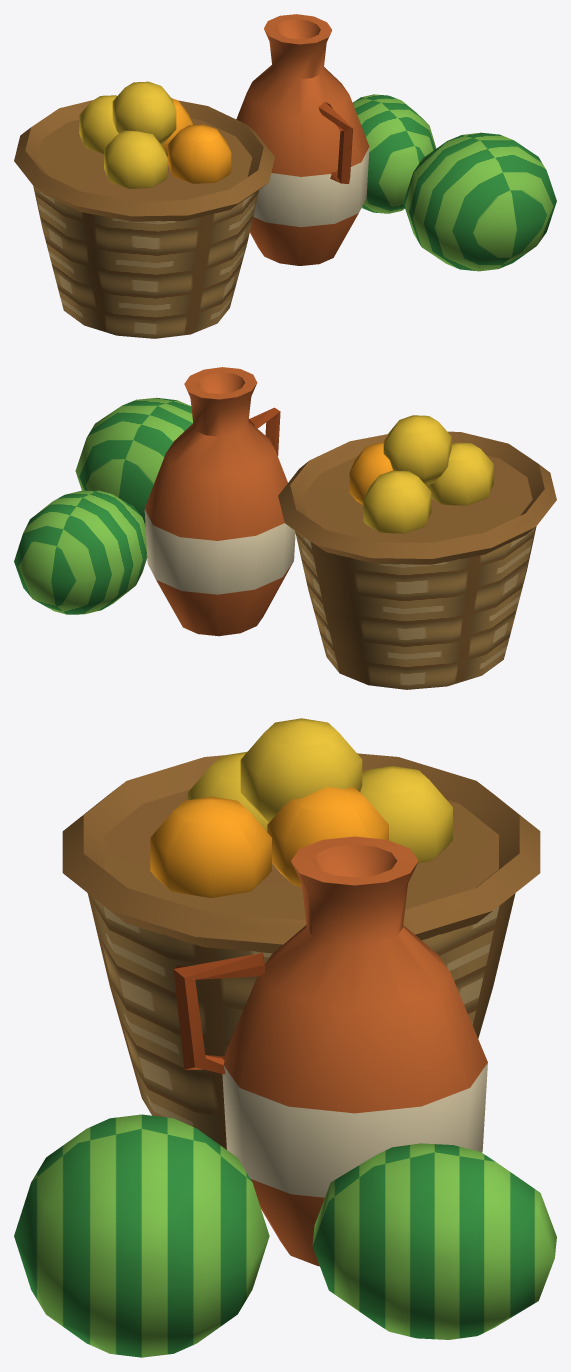
Rendered from prop_baskets.glb.
3 views of the same model, one above another, from view 1: azimuth 30°, elevation 25°; view 2: azimuth 150°, elevation 25°; view 3: azimuth 270°, elevation 25° (orthographic). The views are drawn at different scales.
Parts seen in each view (by area): view 1: prop_baskets; view 2: prop_baskets; view 3: prop_baskets.
Part boxes in pixels (bbox=[...]): prop_baskets: bbox=[14, 14, 556, 338]; prop_baskets: bbox=[14, 367, 556, 689]; prop_baskets: bbox=[14, 718, 556, 1357].
Size of the model in its own units: 1.9 by 0.85 by 1.1.
Materials: 1 (1 with a texture image).
